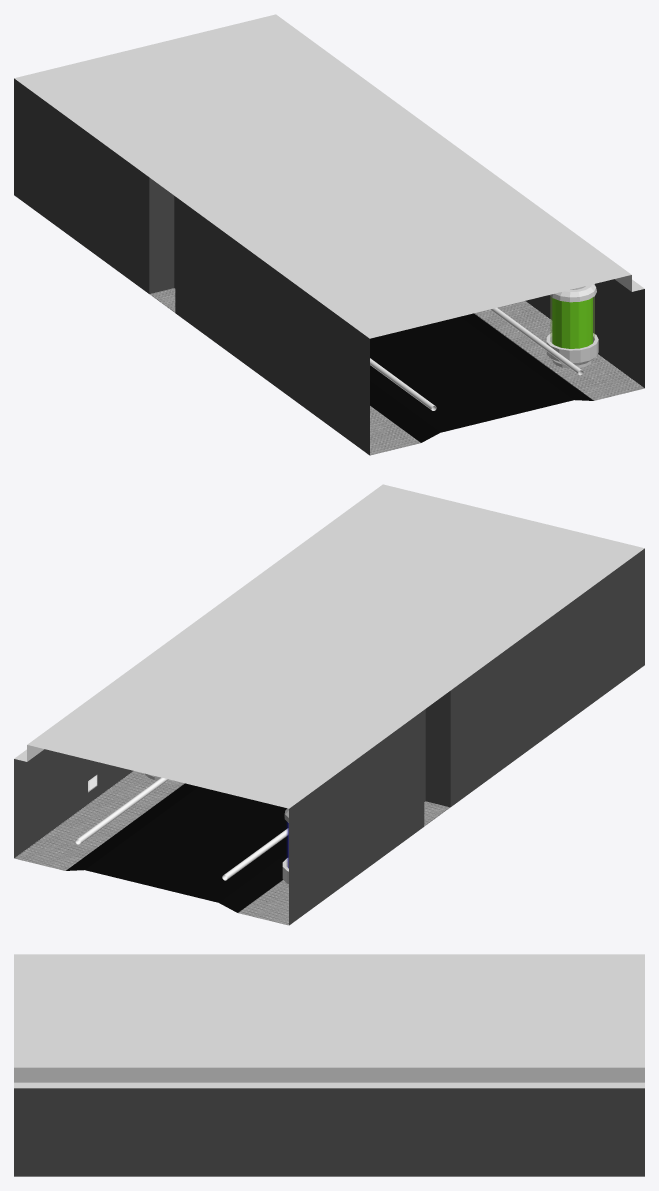
The model's file is corredor3.fbx.
The picture shows the model from 3 angles, top to bottom: view 1: azimuth 30°, elevation 25°; view 2: azimuth 150°, elevation 25°; view 3: azimuth 270°, elevation 25°; orthographic projection. The views are drawn at different scales.
Visible parts, largest first — view 1: TetoComeco, paredes, Chao, Chao.002; view 2: TetoComeco, paredes, Chao; view 3: TetoComeco, paredes.
Boxes of the visible parts, left/top/right/bottom form: TetoComeco: left=14, top=14, right=644, bottom=338; paredes: left=14, top=78, right=644, bottom=455; Chao: left=149, top=288, right=644, bottom=455; Chao.002: left=546, top=284, right=598, bottom=368; TetoComeco: left=14, top=484, right=644, bottom=808; paredes: left=14, top=548, right=644, bottom=925; Chao: left=14, top=771, right=449, bottom=925; TetoComeco: left=14, top=954, right=644, bottom=1088; paredes: left=14, top=1088, right=644, bottom=1176.
Size of the model in its own units: 514 by 209 by 1152.
